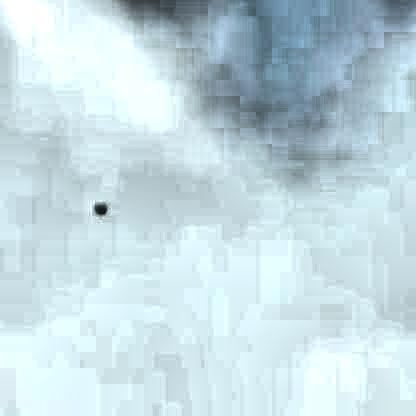golfball: (90, 202, 108, 215)
